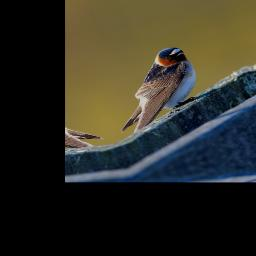Swallow: (93, 42, 214, 139)
